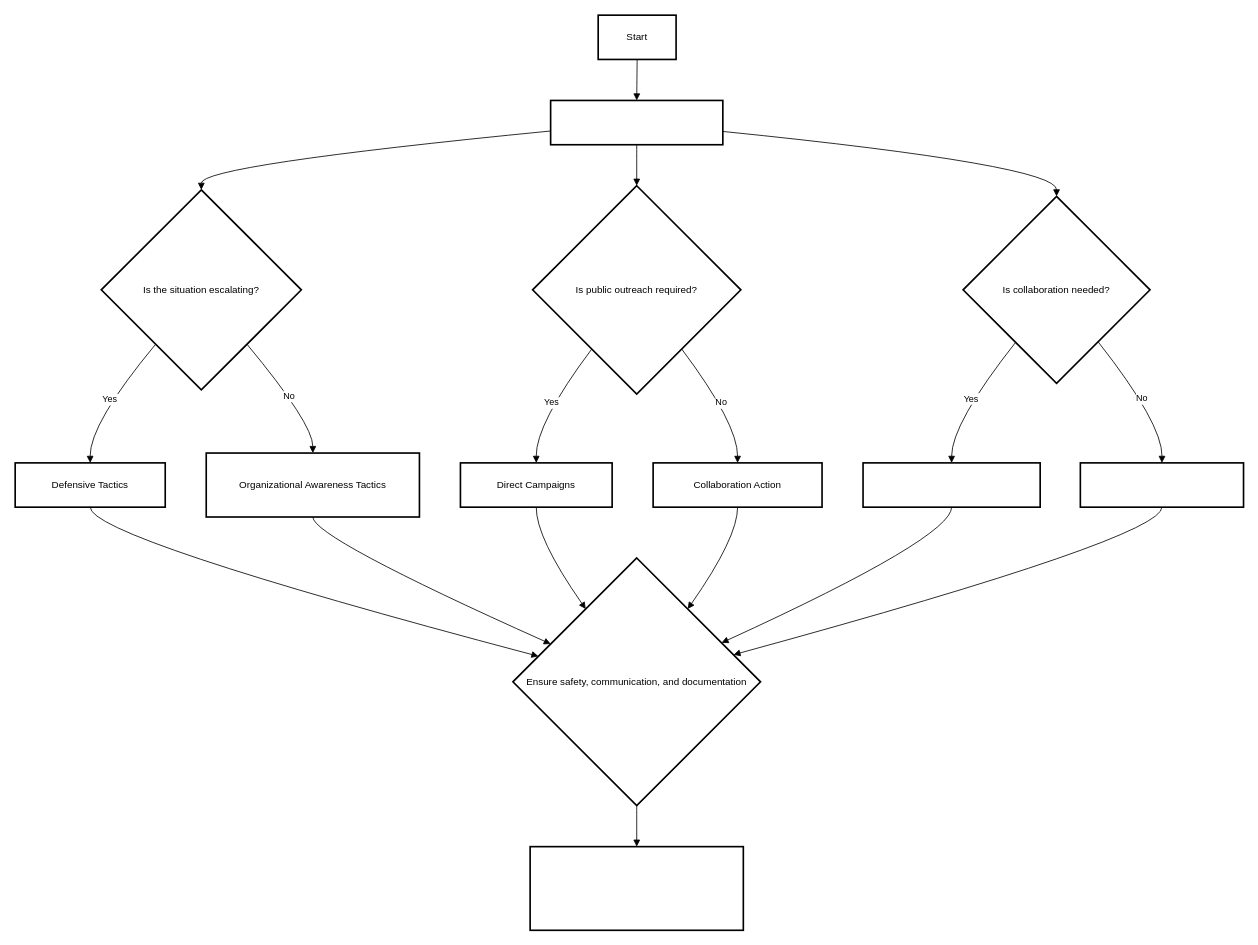
Some shapes in this 1258 by 945 pixel diagram are drawn without their labels. The shapes that lost their labels are listed below. From the top down, each one's box as (x1, y1, x2, y2) in pixels, then its label:
(549, 99, 723, 145): Identify the Scenario
(862, 462, 1041, 508): Independent Planning
(1079, 462, 1244, 508): Independent Action
(529, 845, 744, 931): Evaluate outcomes and document tactics for future reference
